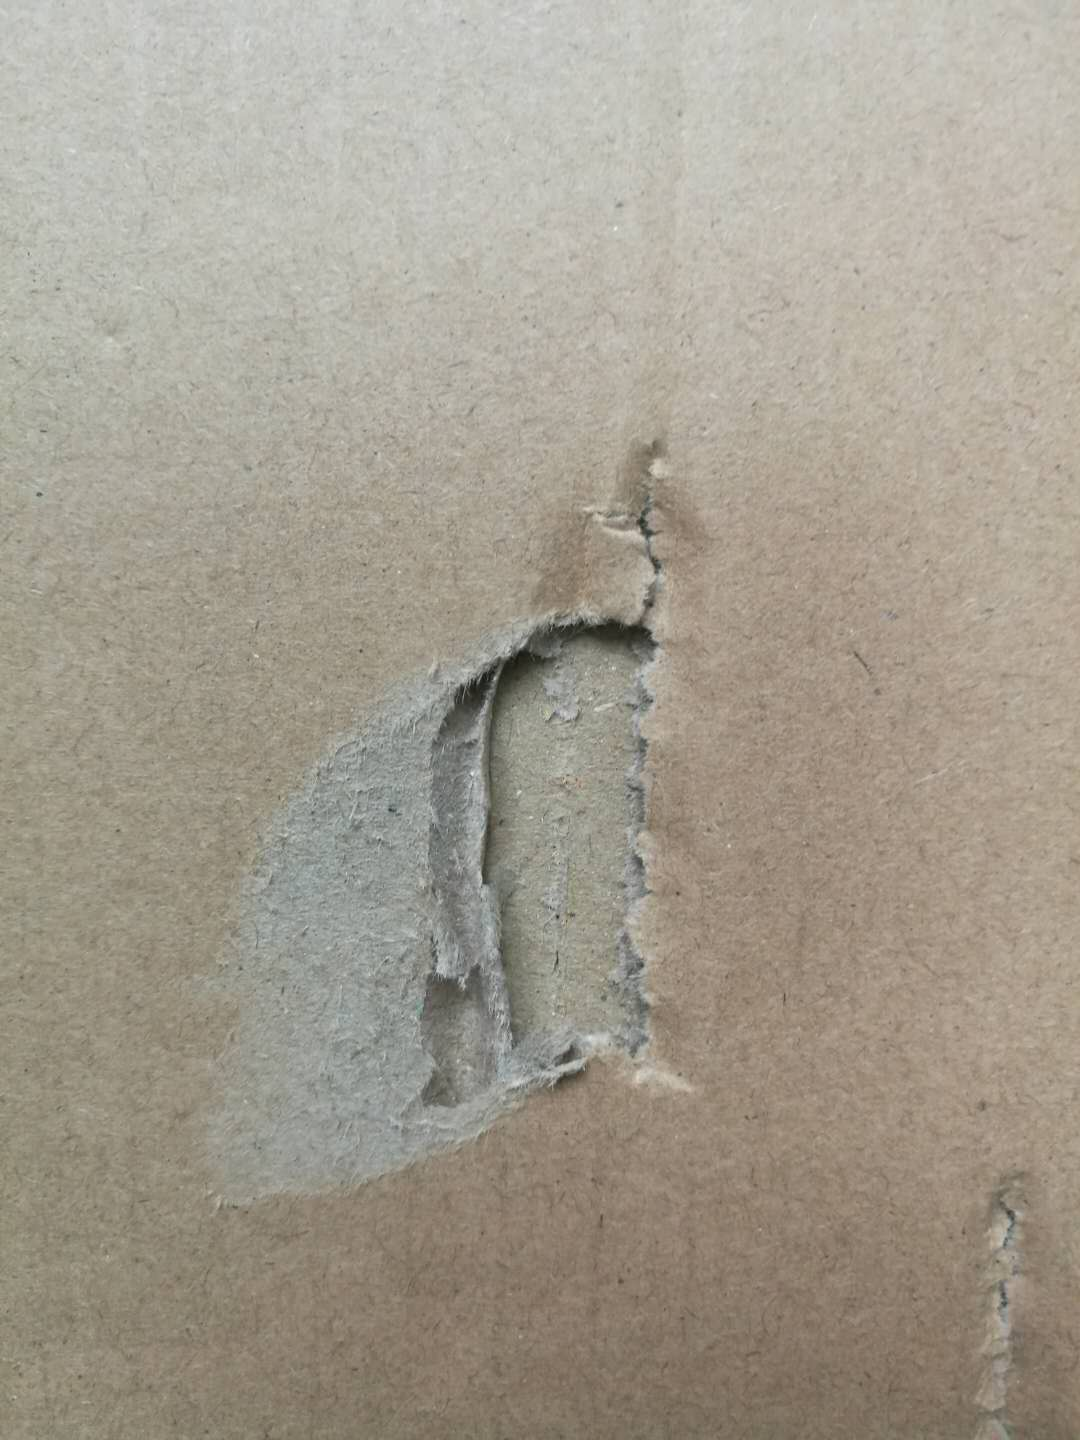defect: (175, 399, 734, 1227), (945, 1161, 1056, 1440)
